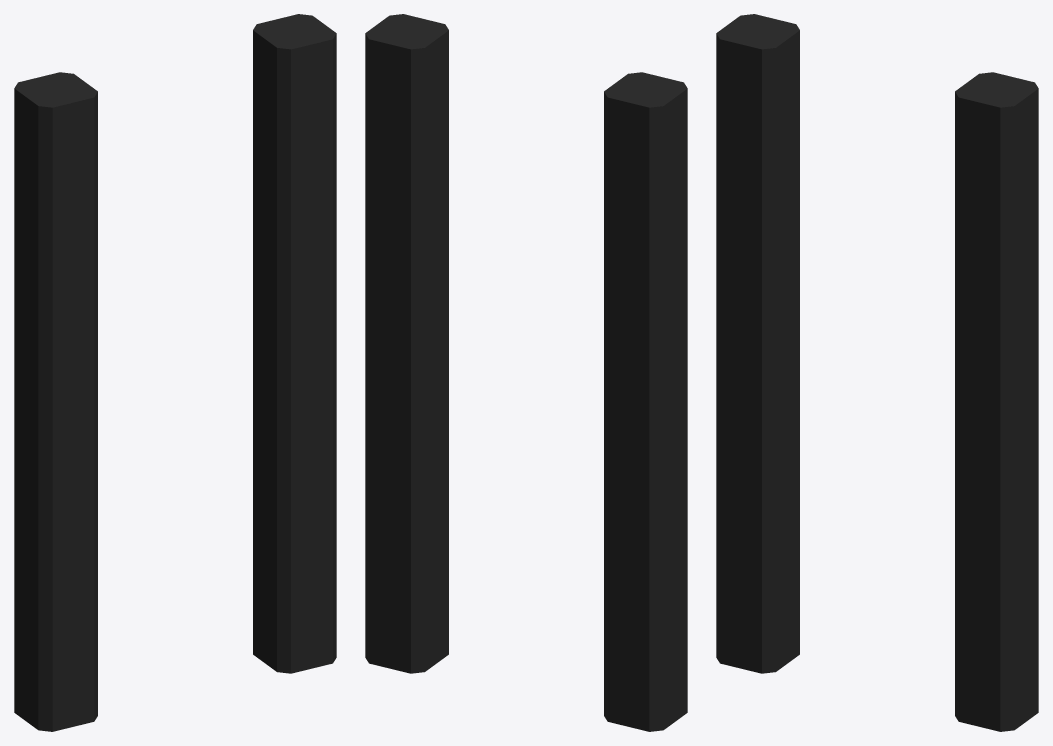
File: door_interior_frame1.fbx
3 views of the same model, side by side, from view 1: azimuth 30°, elevation 25°; view 2: azimuth 150°, elevation 25°; view 3: azimuth 330°, elevation 25° (orthographic).
Parts seen in each view (by area): view 1: door_interior_frame; view 2: door_interior_frame; view 3: door_interior_frame.
Part boxes in pixels (<box>): door_interior_frame: <box>14,14,336,731</box>; door_interior_frame: <box>365,14,687,731</box>; door_interior_frame: <box>716,14,1038,731</box>.
Bounding box in the file's own units: 1 × 2 × 0.2.
